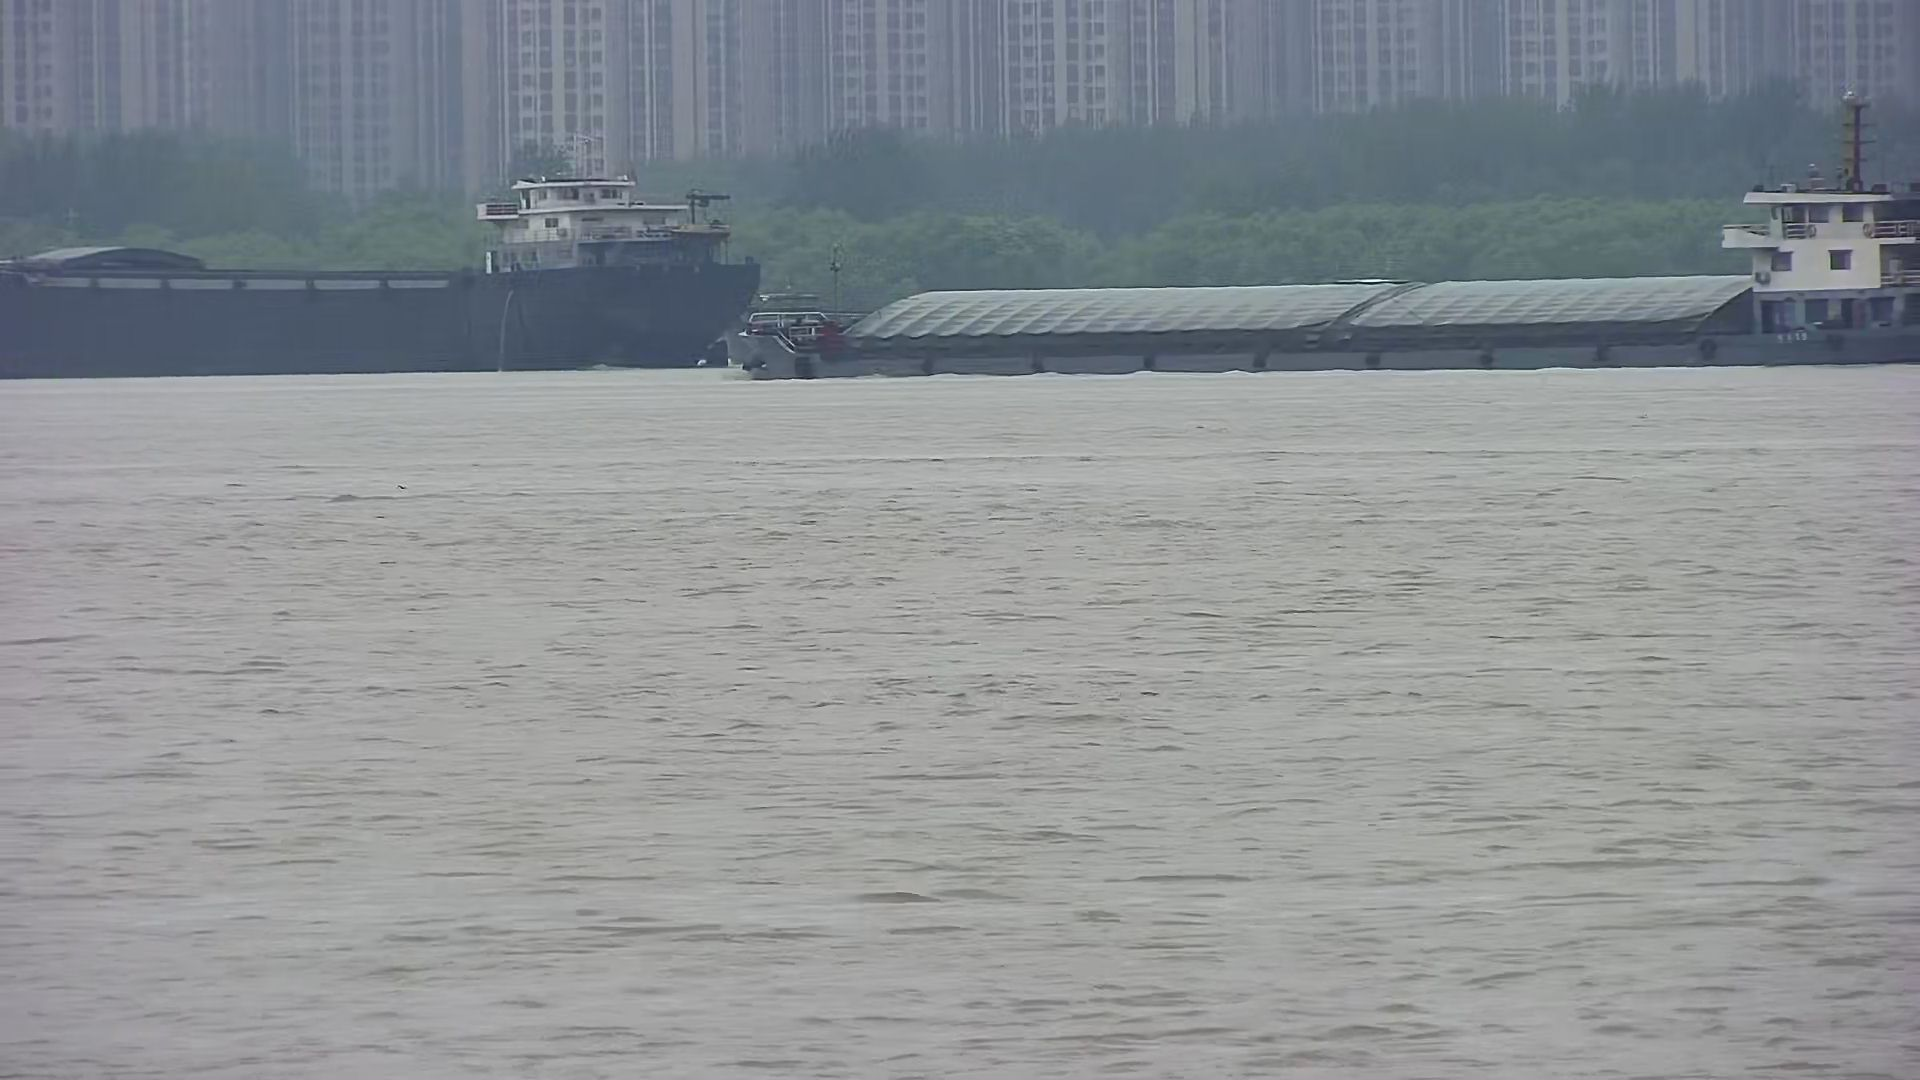ship: (715, 167, 1920, 380), (1, 131, 764, 372)
